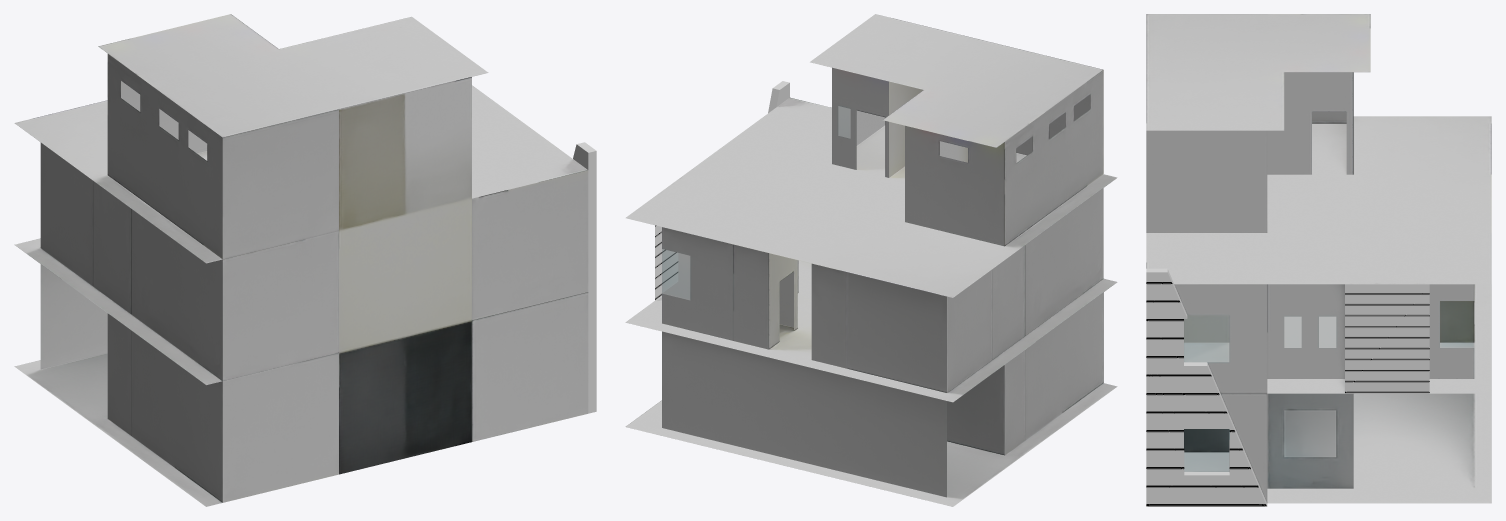
Rendered from sunnyBaked.glb.
3 views of the same model, side by side, from view 1: azimuth 30°, elevation 25°; view 2: azimuth 150°, elevation 25°; view 3: azimuth 270°, elevation 25° (orthographic). The views are drawn at different scales.
Parts seen in each view (by area): view 1: Plane.005, Cube.013, Plane.004, Cube.007, Cube.002, Cube.004, Cube, Plane.003, Cube.009, Plane.008, Plane, Cube.008 (+3 smaller); view 2: Plane.003, Plane, Cube.013, Plane.004, Cube.009, Plane.002, Cube.007, Cube.002, Plane.008, Cube.005, Cube.012, Cube.011 (+4 smaller); view 3: Plane.003, Plane.004, Plane.008, Decoratory, Cube.012, Plane.006, Cube.004, Plane.001, Cube.006, Cube.013, Plane.002, Cube (+1 smaller).
Boxes of the visible parts, bbox=[...] form: Plane.005: bbox=[339, 77, 471, 474]; Cube.013: bbox=[107, 54, 338, 259]; Plane.004: bbox=[98, 14, 488, 137]; Cube.007: bbox=[131, 209, 338, 380]; Cube.002: bbox=[131, 331, 338, 502]; Cube.004: bbox=[472, 170, 588, 320]; Cube: bbox=[472, 292, 588, 441]; Plane.003: bbox=[14, 85, 587, 263]; Cube.009: bbox=[40, 142, 93, 285]; Plane.008: bbox=[14, 353, 222, 506]; Plane: bbox=[40, 264, 107, 369]; Cube.008: bbox=[93, 181, 131, 313]; Plane.003: bbox=[626, 97, 1117, 297]; Plane: bbox=[662, 331, 946, 497]; Cube.013: bbox=[905, 70, 1103, 246]; Plane.004: bbox=[810, 14, 1102, 147]; Cube.009: bbox=[847, 270, 992, 392]; Plane.002: bbox=[625, 260, 1117, 402]; Cube.007: bbox=[1025, 188, 1103, 335]; Cube.002: bbox=[1025, 292, 1103, 439]; Plane.008: bbox=[625, 383, 1117, 506]; Cube.005: bbox=[662, 227, 733, 340]; Cube.012: bbox=[832, 67, 922, 177]; Cube.011: bbox=[733, 244, 797, 349]; Plane.003: bbox=[1146, 116, 1491, 284]; Plane.004: bbox=[1146, 14, 1370, 130]; Plane.008: bbox=[1184, 393, 1491, 503]; Decoratory: bbox=[1146, 268, 1267, 506]; Cube.012: bbox=[1146, 130, 1267, 232]; Plane.006: bbox=[1345, 284, 1429, 393]; Cube.004: bbox=[1174, 284, 1267, 393]; Plane.001: bbox=[1267, 393, 1353, 488]; Cube.006: bbox=[1267, 284, 1344, 378]; Cube.013: bbox=[1267, 72, 1353, 174]; Plane.002: bbox=[1184, 284, 1491, 393]; Cube: bbox=[1184, 393, 1267, 502].
Size of the model in its own units: 14.33 by 12.8 by 12.19.
4 materials, 3 textured.
